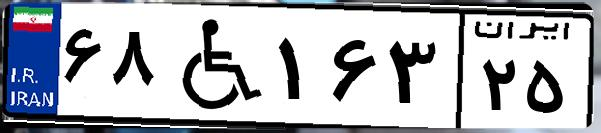1: (270, 28, 330, 110)
2: (475, 38, 525, 113)
3: (385, 28, 445, 110)
5: (525, 38, 570, 115)
6: (330, 28, 385, 110), (57, 26, 110, 100)
8: (110, 28, 158, 98)
ژ (معلولین و جانبازان): (158, 12, 270, 120)
